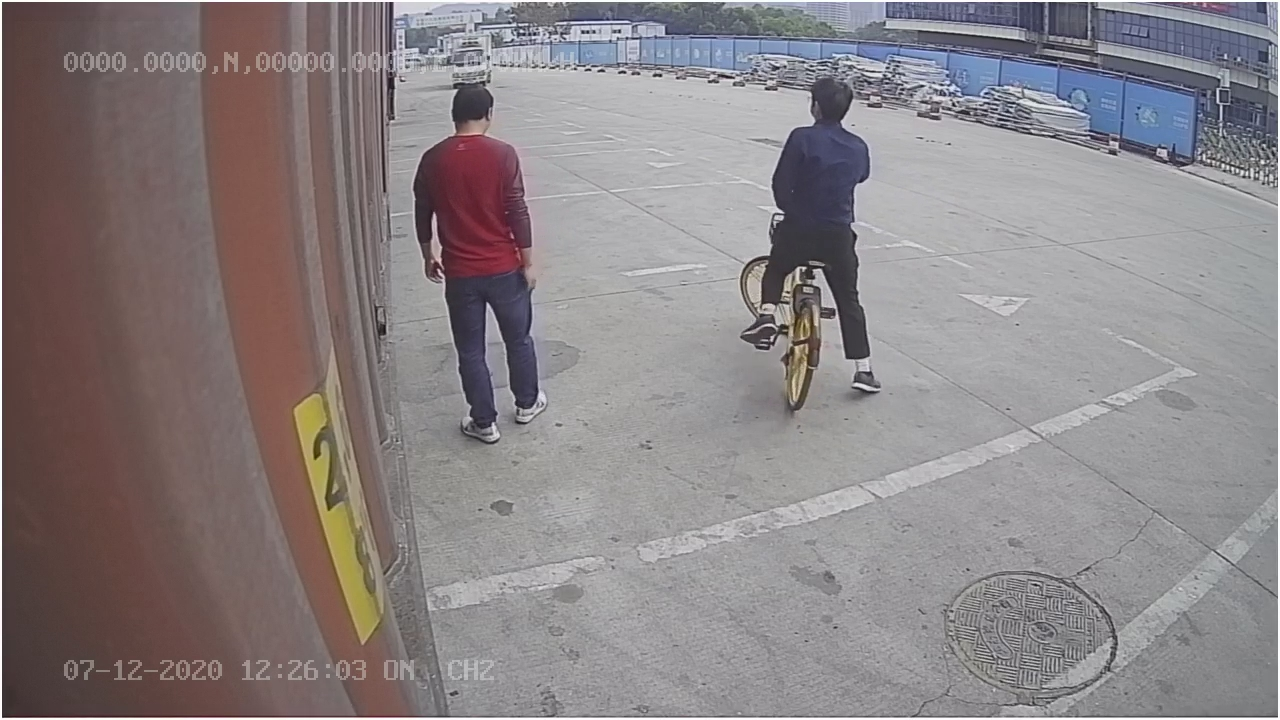person: (405, 78, 553, 449)
